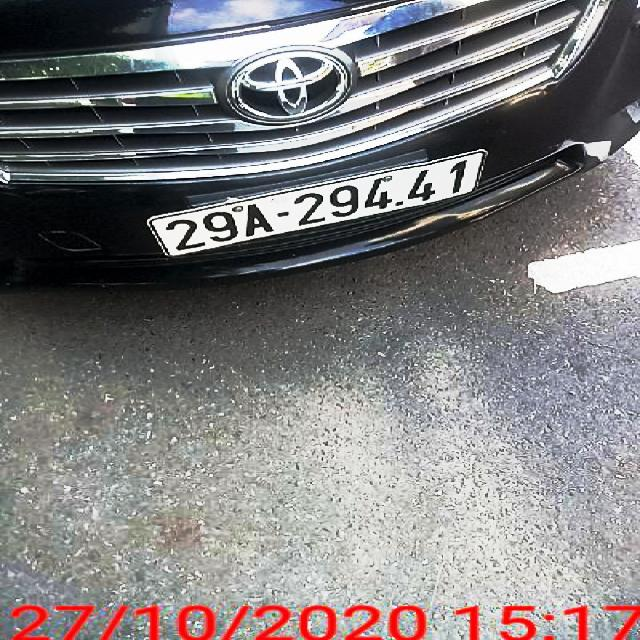license_plate: (149, 150, 486, 259)
